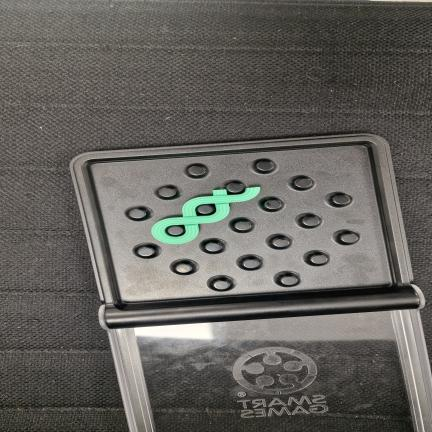F_Teal: (152, 188, 260, 244)
board: (70, 134, 423, 328)
hinge: (102, 294, 415, 318)
pin: (226, 182, 245, 193), (196, 204, 215, 215), (332, 194, 351, 205), (136, 246, 155, 257), (309, 254, 328, 265), (256, 161, 274, 172), (188, 165, 206, 176), (158, 187, 176, 198), (128, 209, 146, 220), (302, 216, 320, 227), (280, 275, 298, 286), (264, 199, 281, 210), (272, 237, 289, 248), (294, 178, 312, 188), (167, 226, 185, 236), (204, 242, 222, 252), (340, 233, 358, 243), (242, 259, 260, 269), (212, 280, 230, 290), (234, 221, 251, 231), (176, 263, 192, 273)
